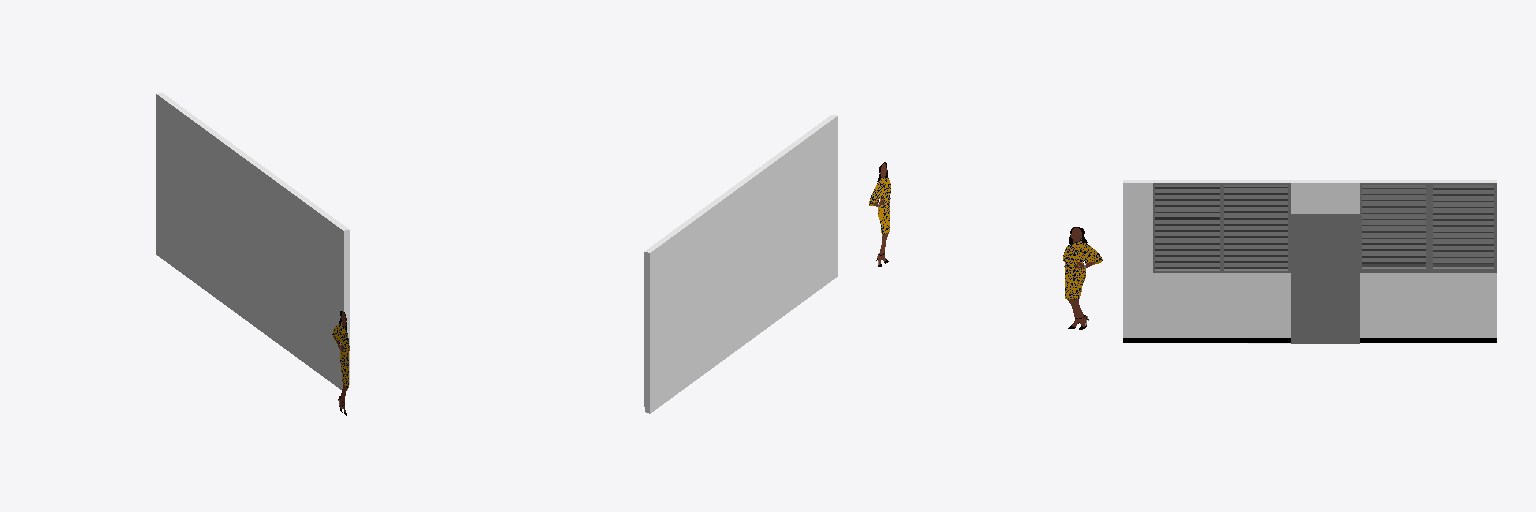
The model's file is Wand_Tuer.obj.
3 renders of one model, left to right at view 1: azimuth 30°, elevation 25°; view 2: azimuth 150°, elevation 25°; view 3: azimuth 270°, elevation 25°, orthographic.
Visible parts, largest first — view 1: Mesh2 Model, Mesh1 Sumele1 Model; view 2: Mesh2 Model, Mesh1 Sumele1 Model; view 3: Mesh2 Model, Mesh1 Sumele1 Model.
Boxes of the visible parts, x1,y1,x2,y2 form: Mesh2 Model: [156, 92, 349, 390]; Mesh1 Sumele1 Model: [332, 311, 349, 415]; Mesh2 Model: [644, 115, 837, 413]; Mesh1 Sumele1 Model: [869, 162, 890, 266]; Mesh2 Model: [1123, 180, 1496, 343]; Mesh1 Sumele1 Model: [1063, 227, 1102, 329].
Size of the model in its own units: 0.4997 by 2.58 by 6.33.